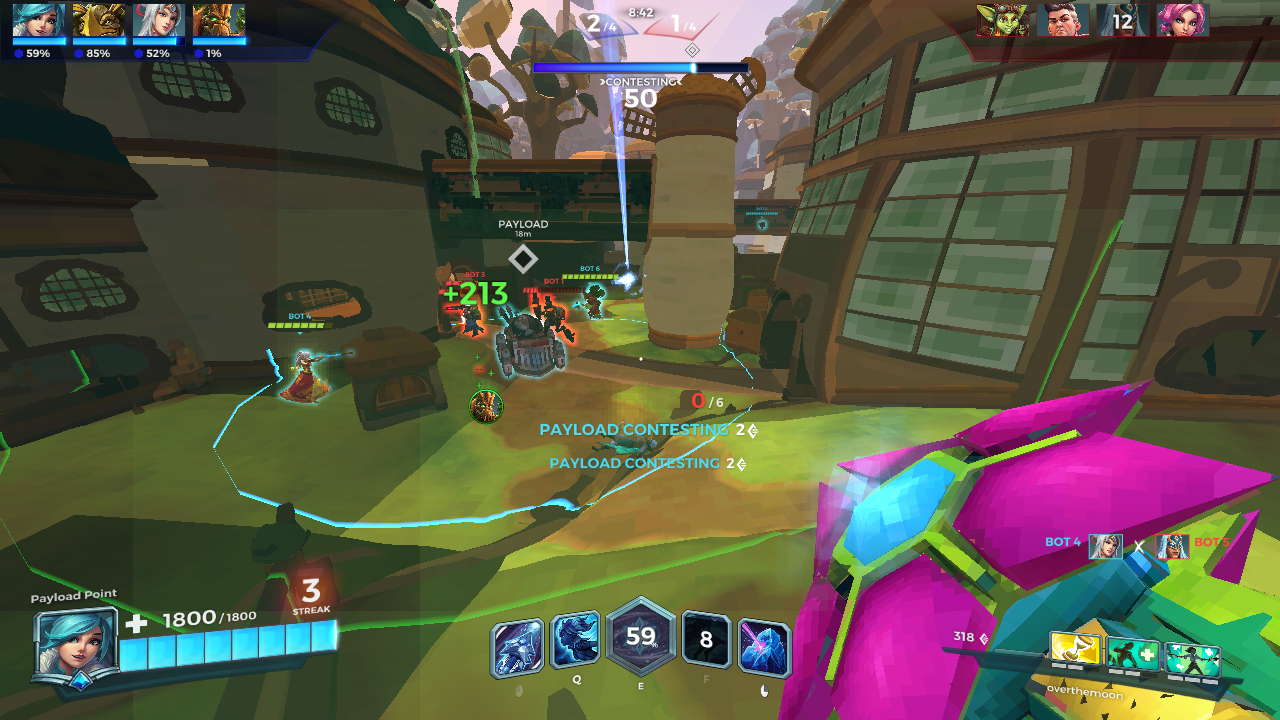model: (529, 291, 567, 348), (458, 287, 480, 347)
